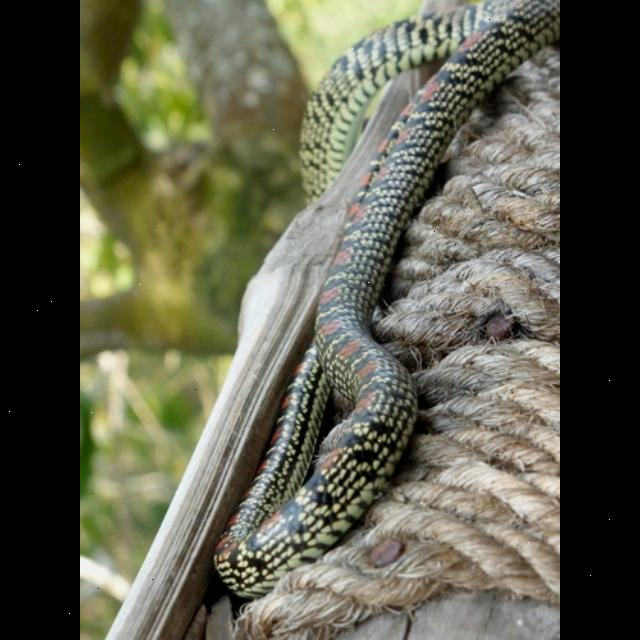snake: (208, 13, 464, 589)
